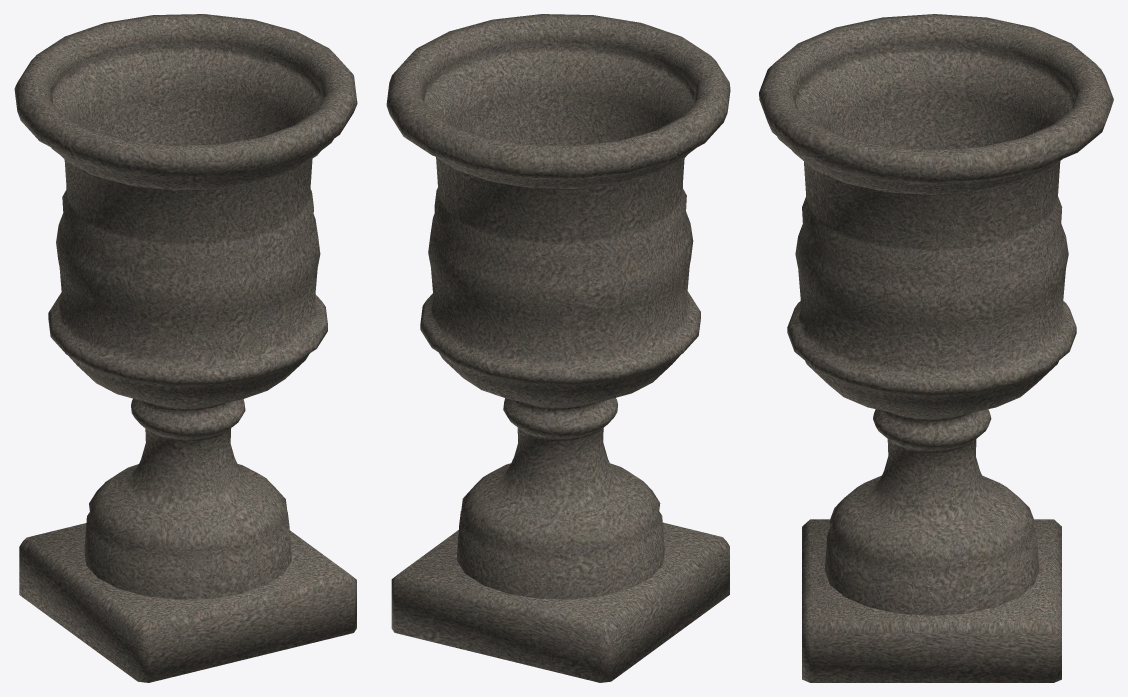
The model's file is flower_pot.glb.
3 views of the same model, side by side, from view 1: azimuth 30°, elevation 25°; view 2: azimuth 150°, elevation 25°; view 3: azimuth 270°, elevation 25° (orthographic). The views are drawn at different scales.
Parts seen in each view (by area): view 1: Cube.002_2; view 2: Cube.002_2; view 3: Cube.002_2.
Boxes of the visible parts, <box> form: Cube.002_2: <box>14,14,357,682</box>; Cube.002_2: <box>386,14,730,682</box>; Cube.002_2: <box>759,14,1113,682</box>.
Bounding box in the file's own units: 0.5911 × 1 × 0.5915.
2 materials, 2 textured.
